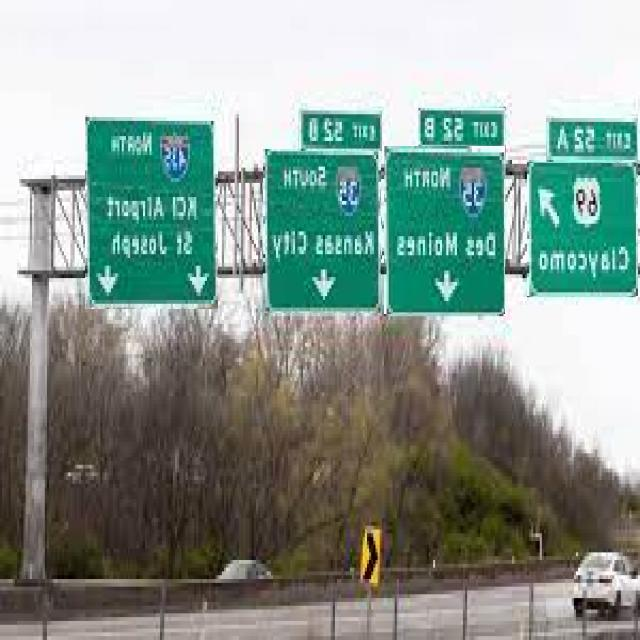street-signs: (85, 116, 218, 309), (385, 146, 505, 314), (264, 150, 381, 313), (527, 162, 638, 296), (547, 117, 638, 163), (419, 108, 505, 151), (299, 108, 382, 151)
